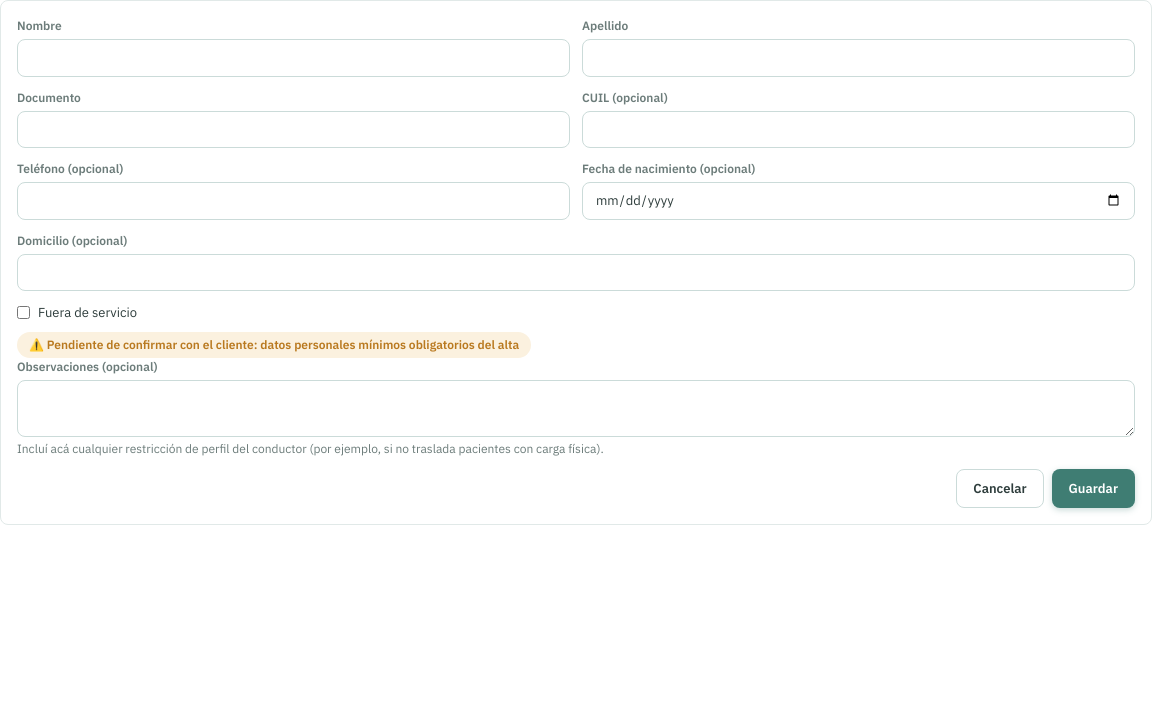
Test case: ConductorForm › bloquea el guardado y señala los campos faltantes cuando apellido, nombre o documento están vacíos
Click the button "Guardar". click: (1093, 488)
box: [1052,468,1135,508]
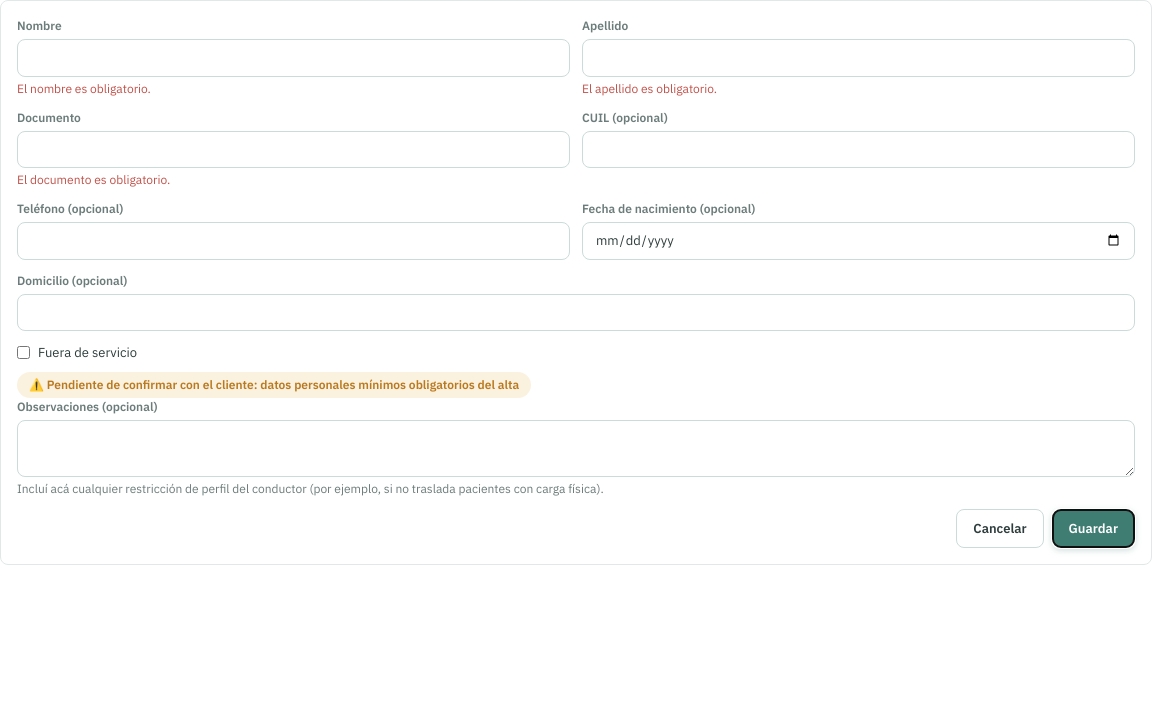
Expected: the text "El apellido es obligatorio." is shown, [582,80,717,96]
Expected: the text "El nombre es obligatorio." is shown, [17,80,151,96]
Expected: the text "El documento es obligatorio." is shown, [17,172,170,187]
